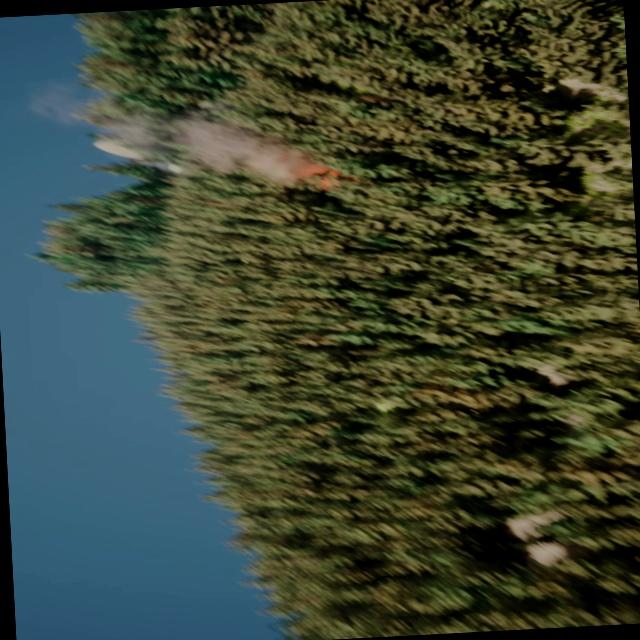smoke: (24, 62, 350, 205)
